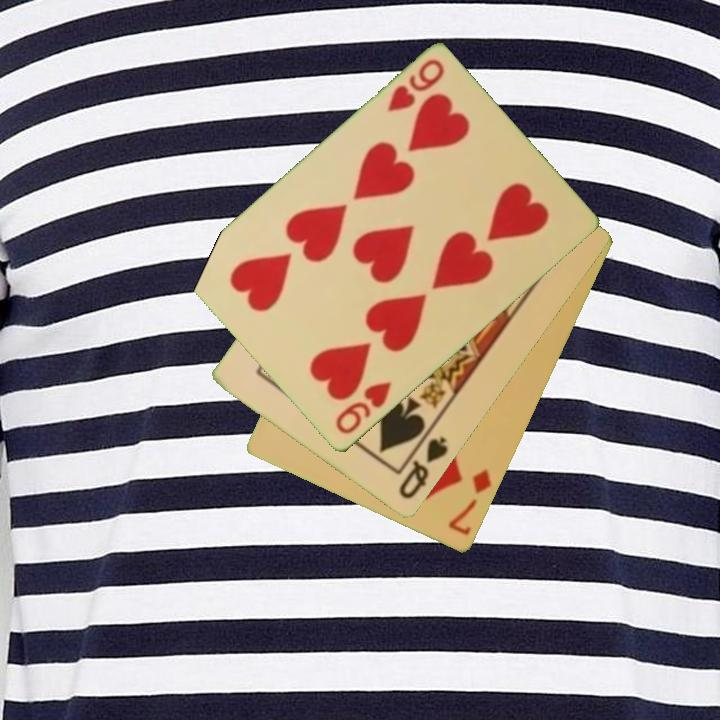7d: (445, 465, 495, 539)
9h: (384, 56, 448, 116), (332, 378, 394, 438)
Qs: (395, 433, 451, 503)
